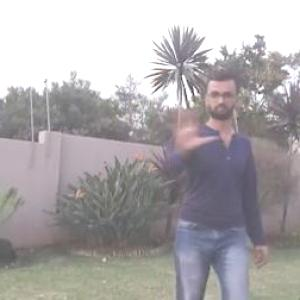follow_hand: (166, 100, 222, 152)
